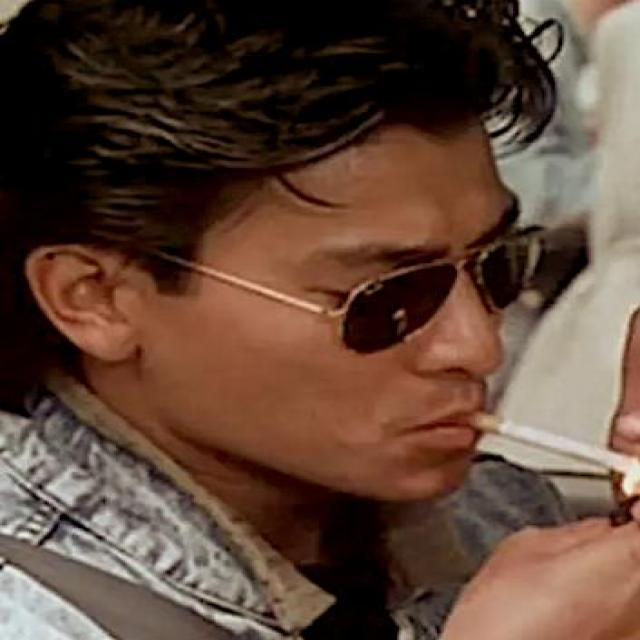cigarette: (433, 369, 640, 498)
